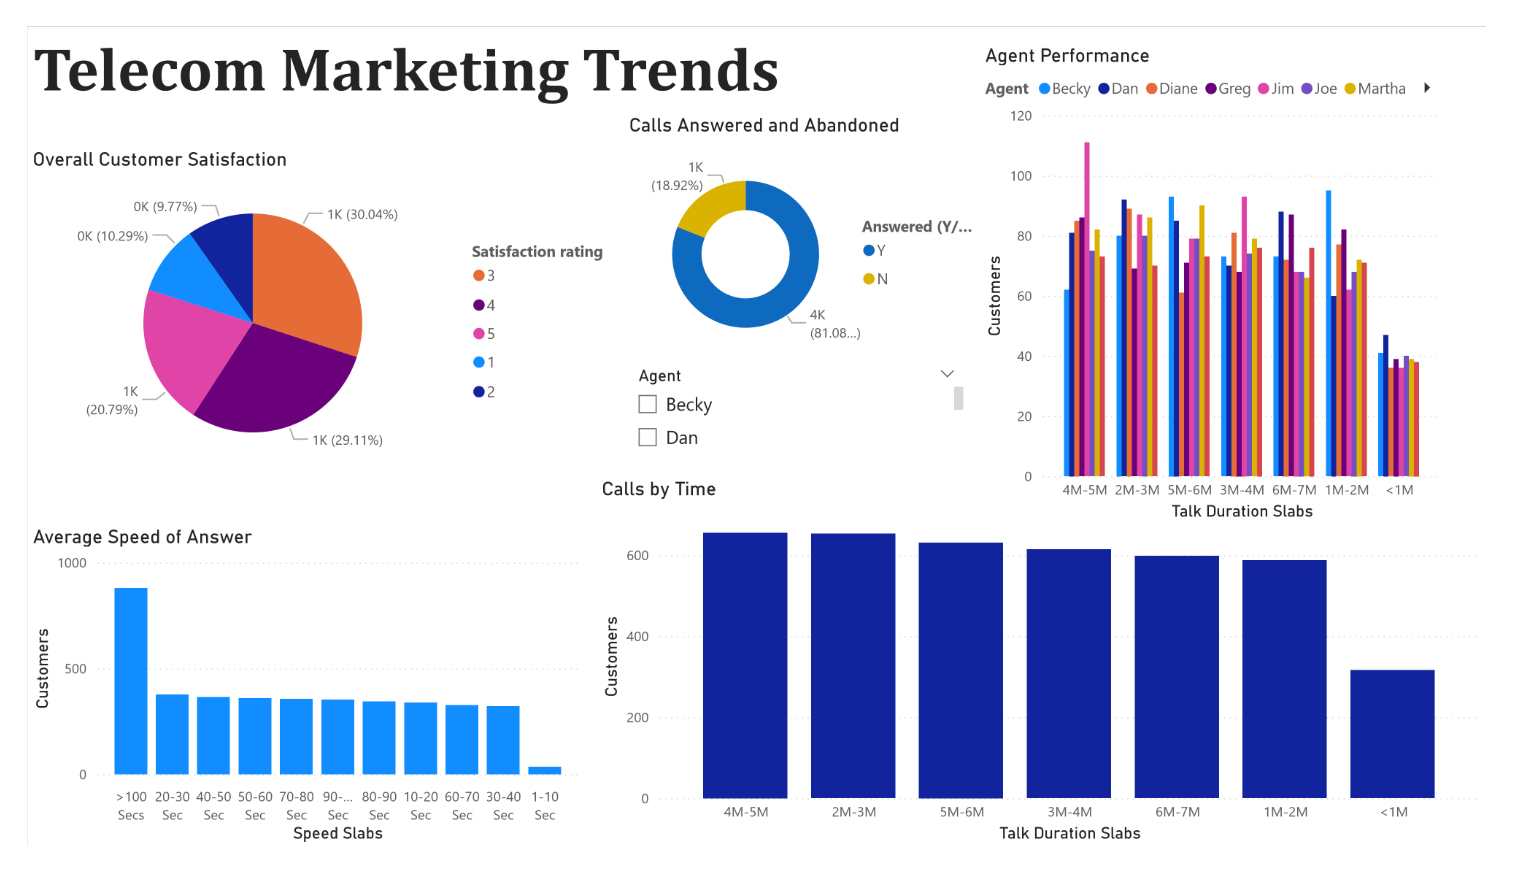

What the dashboard file says about the page in this screenshot:
{"tool":"powerbi","page":{"name":"Page 1","canvas":[1280,720],"ordinal":0},"visuals":[{"type":"pieChart","title":"Overall Customer Satisfaction","fields":{"Category":["Rating.Satisfaction rating Hierarchy.Satisfaction rating"],"Y":["Rating.No of Customers"]},"box":[0,105.8,523.5,289.1],"z":0},{"type":"donutChart","title":"Calls Answered and Abandoned","fields":{"Category":["Calls.Answered (Y/N)"],"Y":["Raw.Customers"]},"box":[523.5,75.6,311.8,228.7],"z":1000},{"type":"clusteredColumnChart","title":"Calls by Time","fields":{"Category":["Time (2).Talk Duration Slabs Hierarchy.Talk Duration Slabs"],"Y":["Raw.Customers"]},"box":[498.9,395,780.5,325],"z":2000},{"type":"clusteredColumnChart","title":"Average Speed of Answer","fields":{"Category":["Time (2).Speed Slabs"],"Y":["Raw.Customers"]},"box":[0,436.5,487.6,283.5],"z":3000},{"type":"lineClusteredColumnComboChart","title":"Agent Performance","fields":{"Category":["Time (2).Talk Duration Slabs Hierarchy.Talk Duration Slabs"],"Series":["Time (2).Agent"],"Y":["Raw.Customers"]},"box":[835.3,15.1,410.1,421.4],"z":4000},{"type":"textbox","box":[0,0,835.3,75.6],"z":5000},{"type":"slicer","fields":{"Values":["Time (2).Agent"]},"box":[523.5,292.9,302.4,86.9],"z":5001}]}

Visuals, with their boxes in screenshot pixels (x1, y1, x2, y2), scaled from the page's 1280x720 canvas onto the 1513x874 screenshot:
"Overall Customer Satisfaction" pieChart: BBox(0, 128, 619, 479)
"Calls Answered and Abandoned" donutChart: BBox(619, 92, 987, 369)
"Calls by Time" clusteredColumnChart: BBox(590, 479, 1512, 873)
"Average Speed of Answer" clusteredColumnChart: BBox(0, 530, 576, 873)
"Agent Performance" lineClusteredColumnComboChart: BBox(987, 18, 1472, 530)
textbox: BBox(0, 0, 987, 92)
slicer - Time (2).Agent: BBox(619, 356, 976, 461)
